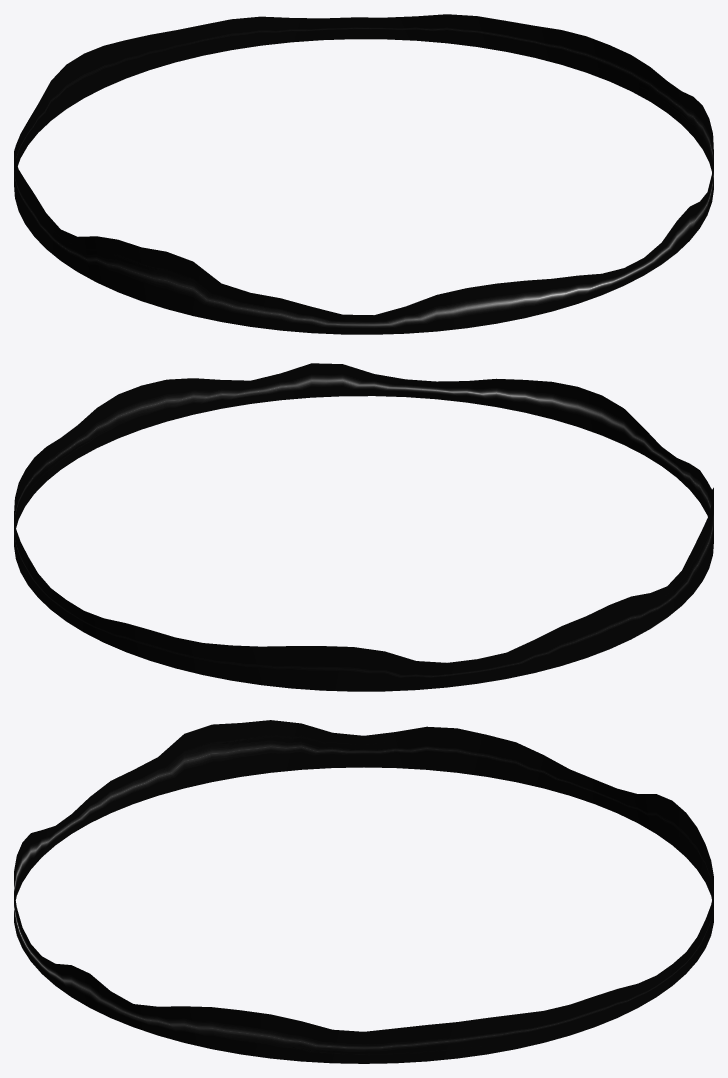
The model's file is 0329_huoyan_zhuzi.glb.
3 renders of one model, top to bottom at view 1: azimuth 30°, elevation 25°; view 2: azimuth 150°, elevation 25°; view 3: azimuth 270°, elevation 25°, orthographic.
Bounding box in the file's own units: 2.2 × 0.1993 × 2.2.
Materials: 1 (1 with a texture image).
